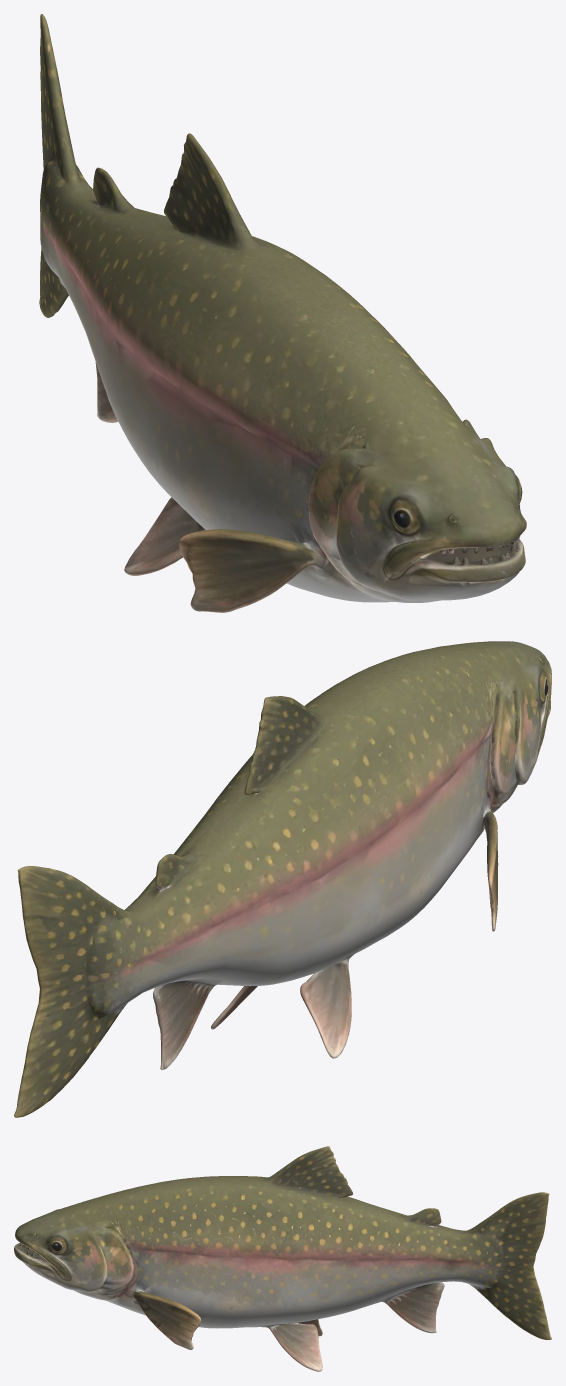
Rendered from fish.glb.
3 views of the same model, one above another, from view 1: azimuth 30°, elevation 25°; view 2: azimuth 150°, elevation 25°; view 3: azimuth 270°, elevation 25° (orthographic). The views are drawn at different scales.
Parts seen in each view (by area): view 1: tripo_node_809684b3-0090-479e-88de-5ea083eebd0b; view 2: tripo_node_809684b3-0090-479e-88de-5ea083eebd0b; view 3: tripo_node_809684b3-0090-479e-88de-5ea083eebd0b.
Boxes of the visible parts, x1,y1,x2,y2 form: tripo_node_809684b3-0090-479e-88de-5ea083eebd0b: (39, 14, 526, 612); tripo_node_809684b3-0090-479e-88de-5ea083eebd0b: (14, 641, 551, 1117); tripo_node_809684b3-0090-479e-88de-5ea083eebd0b: (14, 1146, 551, 1371).
Size of the model in its own units: 0.2962 by 0.4259 by 0.9997.
1 material, 1 textured.
